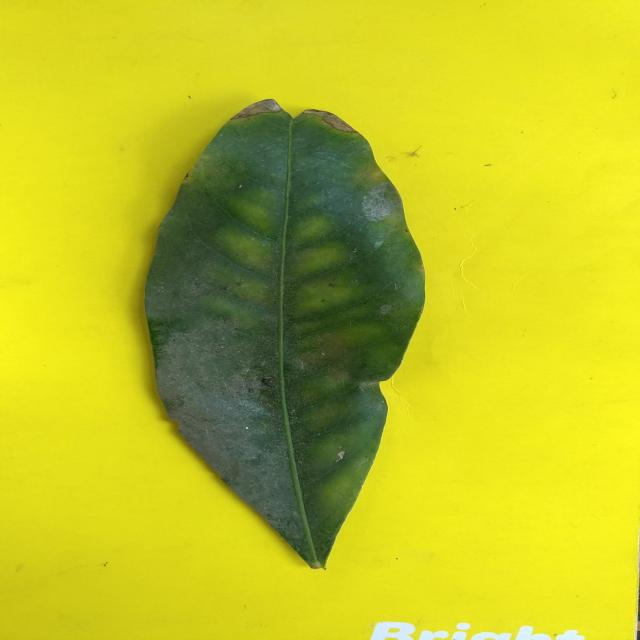defectedseethaashoka: (144, 100, 424, 568)
